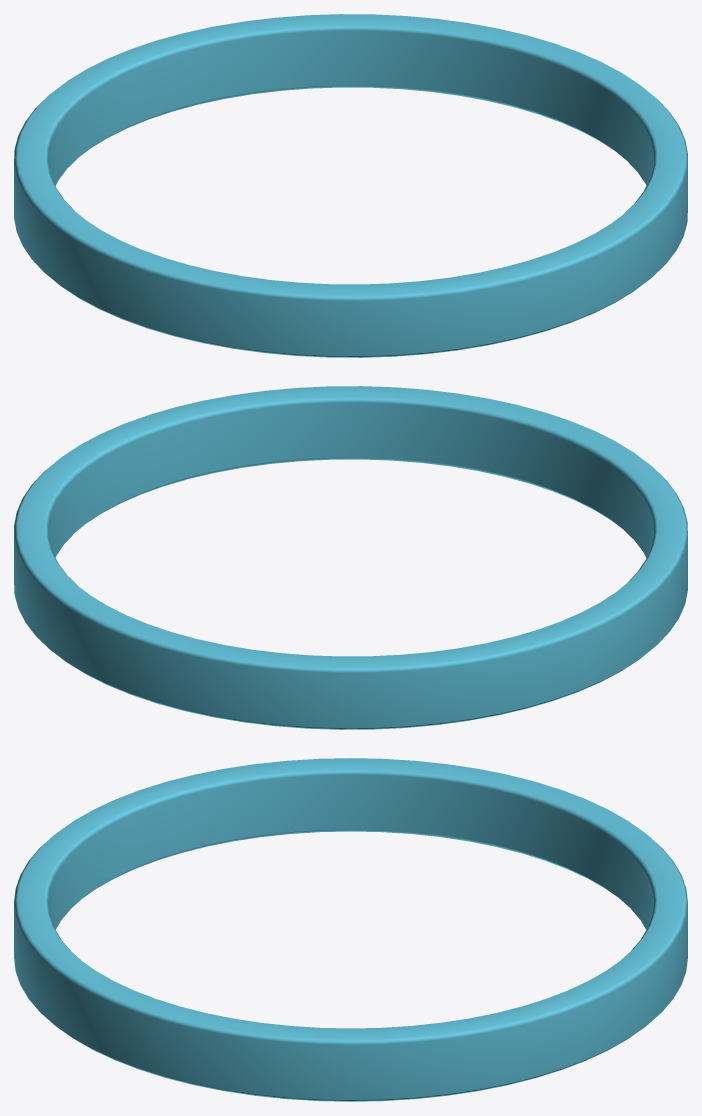
The picture shows the model from 3 angles, top to bottom: view 1: azimuth 30°, elevation 25°; view 2: azimuth 150°, elevation 25°; view 3: azimuth 270°, elevation 25°; orthographic projection.
Parts seen in each view (by area): view 1: seal_body; view 2: seal_body; view 3: seal_body.
Boxes of the visible parts, x1,y1,x2,y2 form: seal_body: [14, 14, 687, 357]; seal_body: [14, 386, 687, 729]; seal_body: [14, 758, 687, 1101].
Size of the model in its own units: 0.1556 by 0.0159 by 0.1556.
